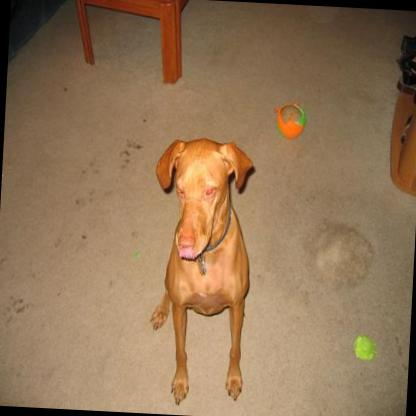vizsla: (141, 136, 256, 408)
